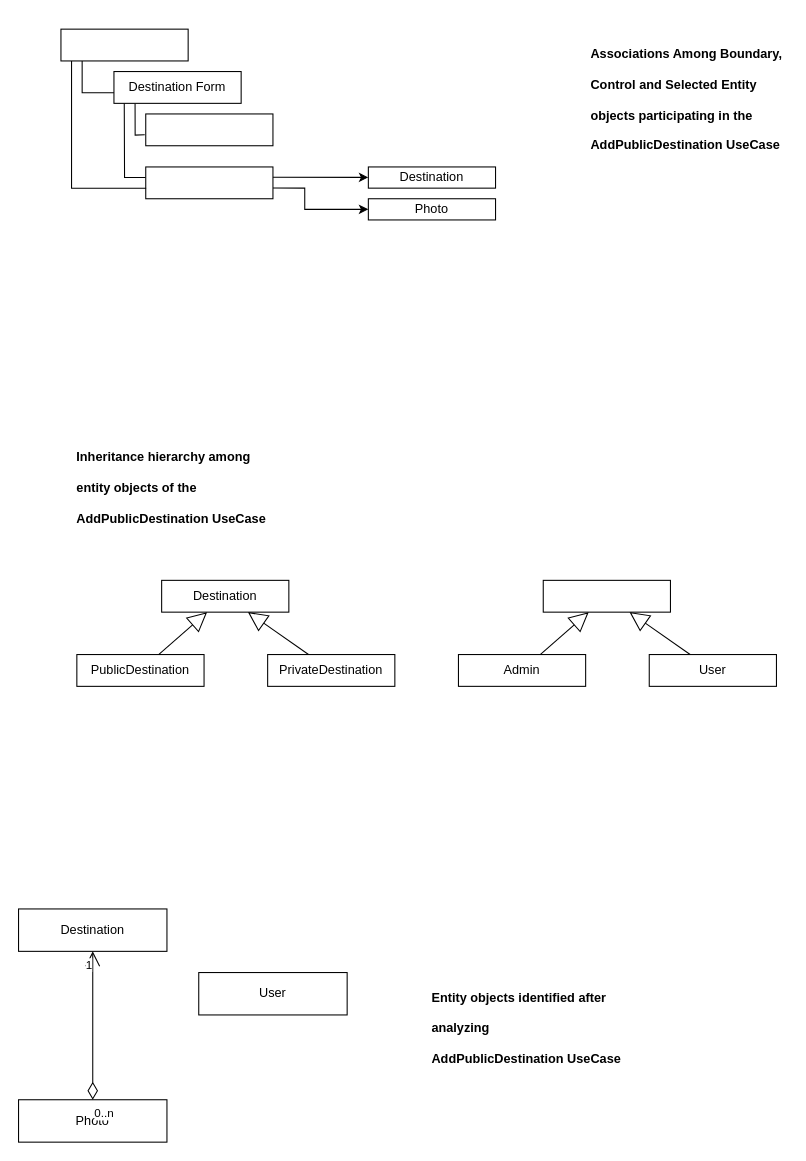
Image size: 806x1161. Some labels were removed from this diagram. The shapes that lost their labels are listed below. From the top down, each one's box as (x1, y1, x2, y2) in pixels, then its label:
(60, 28, 188, 61): View Control
(145, 113, 273, 146): Message Box
(145, 166, 273, 199): Repository
(542, 579, 670, 612): GenericUser
